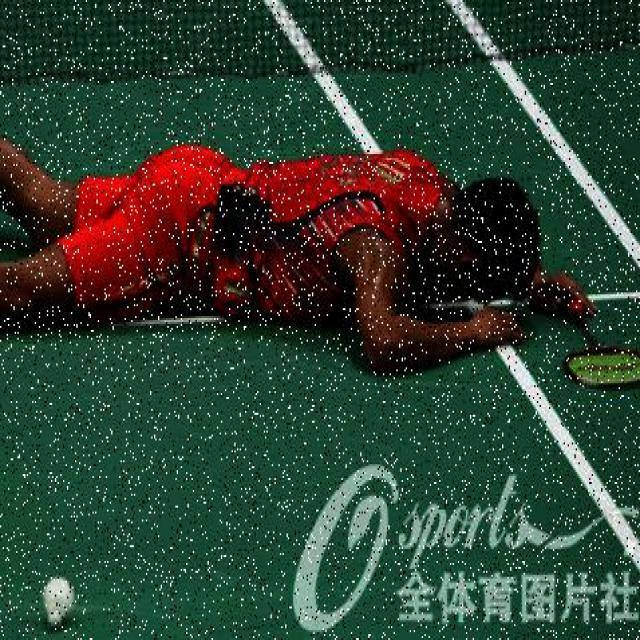fall: (0, 112, 542, 365)
